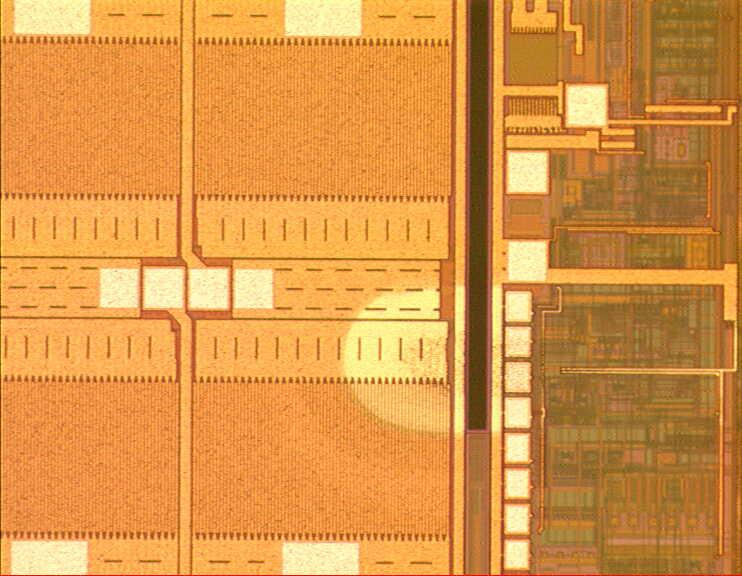COATING BAD: (301, 267, 606, 449)
